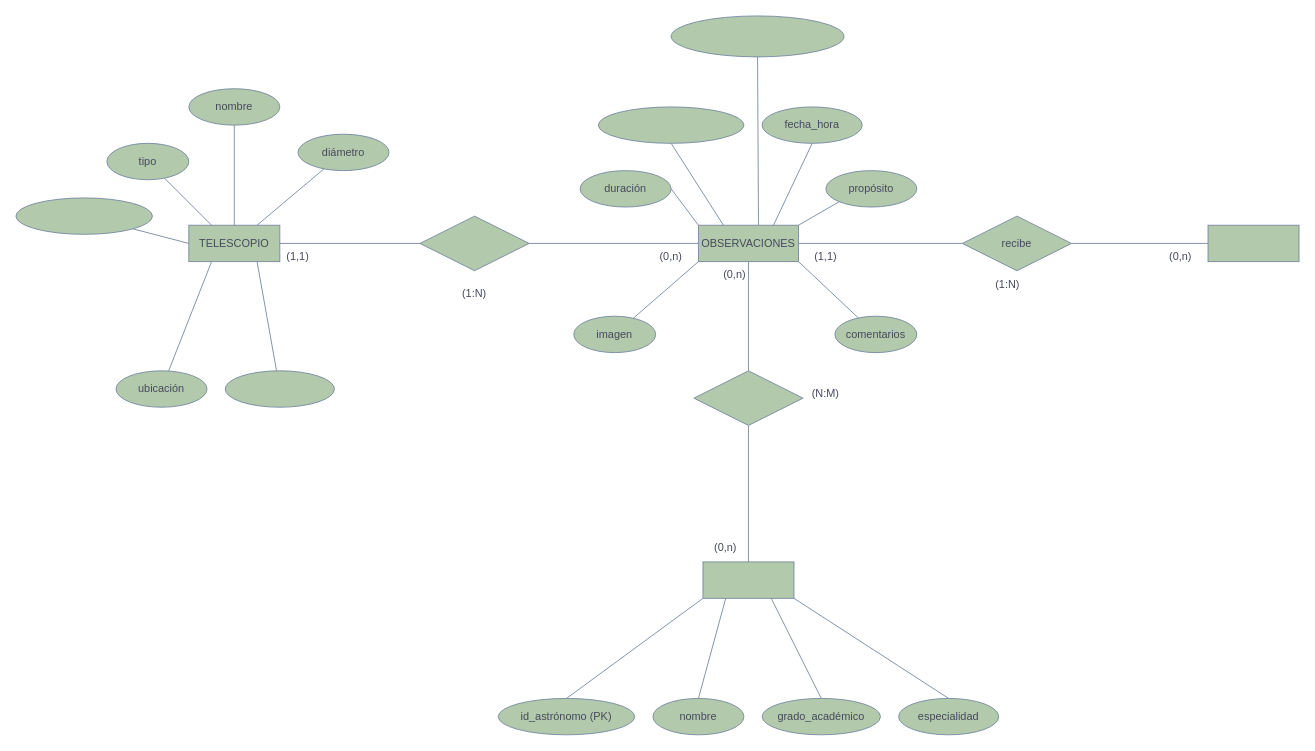
Some shapes in this 1315 by 751 pixel diagram are drawn without their labels. The centre of each missing label's shape, as x and y in pixels:
"ASTRONOMOS" belongs at [748,579].
"año_instalación" belongs at [279,388].
"condiciones_atmosféricas" belongs at [757,36].
"CUERPOS CELESTES" belongs at [1253,243].
"id_observación (PK)" belongs at [670,124].
"id_telescopio (PK)" belongs at [83,215].
"participan" belongs at [748,397].
"realiza" belongs at [474,243].
